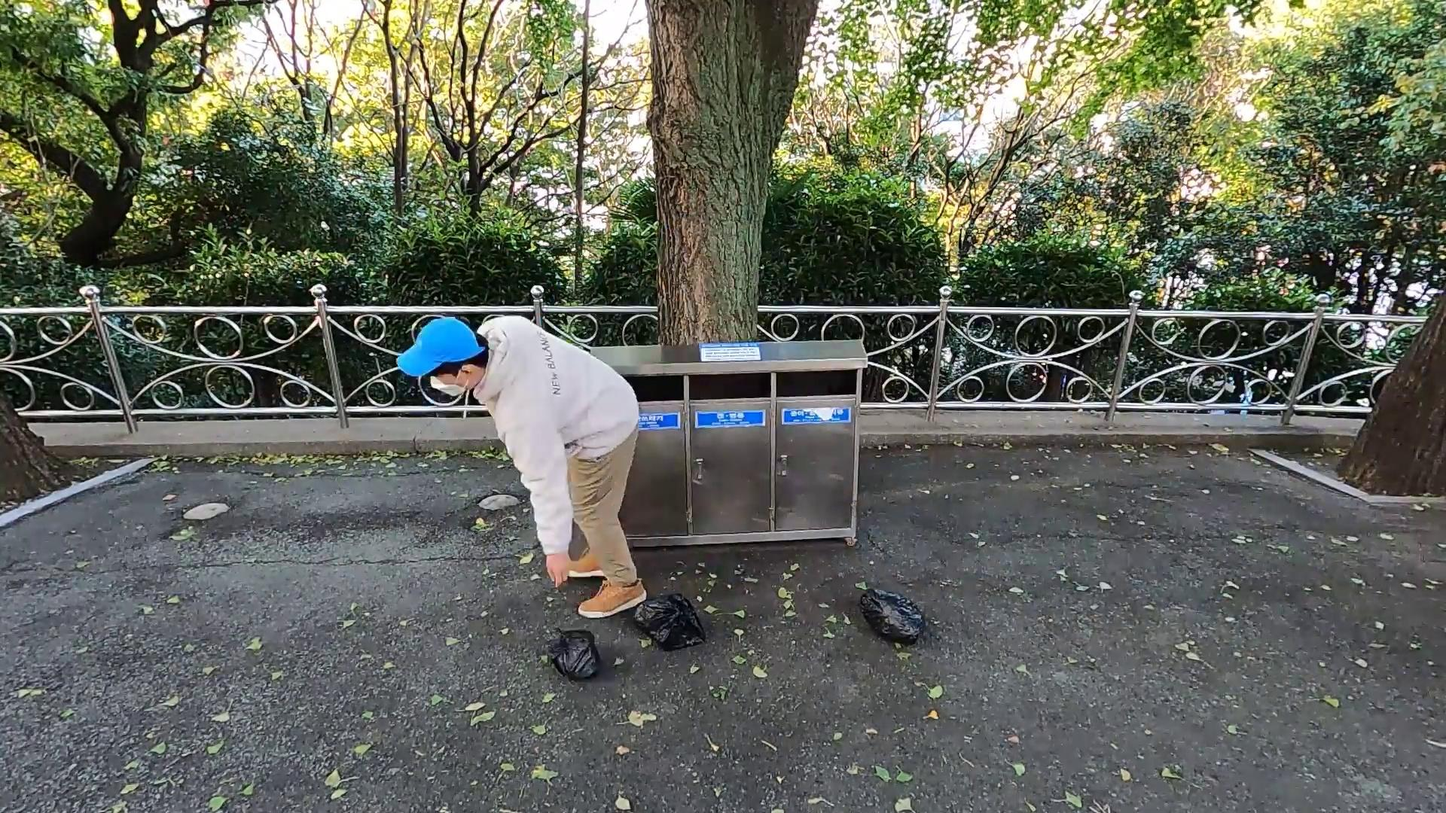person: (398, 307, 651, 627)
trash: (629, 590, 722, 670), (850, 590, 934, 654), (539, 623, 612, 694)
